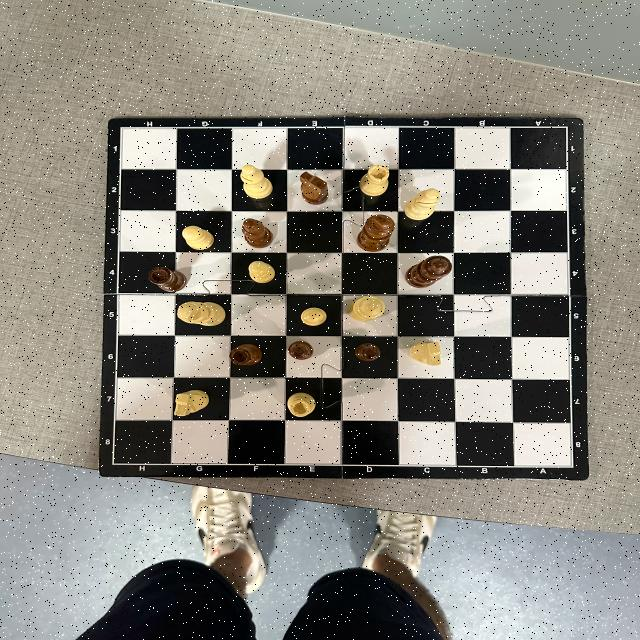Black-Bishop: (242, 218, 274, 248)
Black-King: (356, 214, 394, 252)
Black-Knight: (302, 171, 328, 205)
Black-Pawn: (354, 343, 380, 361), (289, 341, 313, 360)
Black-Queen: (405, 256, 452, 288)
Black-Rook: (150, 268, 184, 292), (230, 343, 262, 366)
White-Bishop: (405, 188, 440, 220), (240, 164, 272, 198)
White-King: (177, 302, 226, 326)
White-Knight: (175, 388, 209, 418), (408, 341, 442, 365)
White-Pawn: (182, 226, 214, 250), (249, 261, 275, 283), (302, 308, 326, 326)
White-Queen: (349, 296, 385, 322)
White-Rook: (361, 164, 388, 196), (288, 392, 316, 418)
